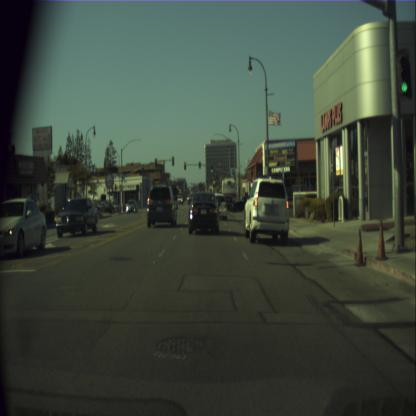Green: (398, 54, 409, 96), (198, 160, 200, 168), (211, 164, 212, 172)
Red: (184, 160, 185, 170)
